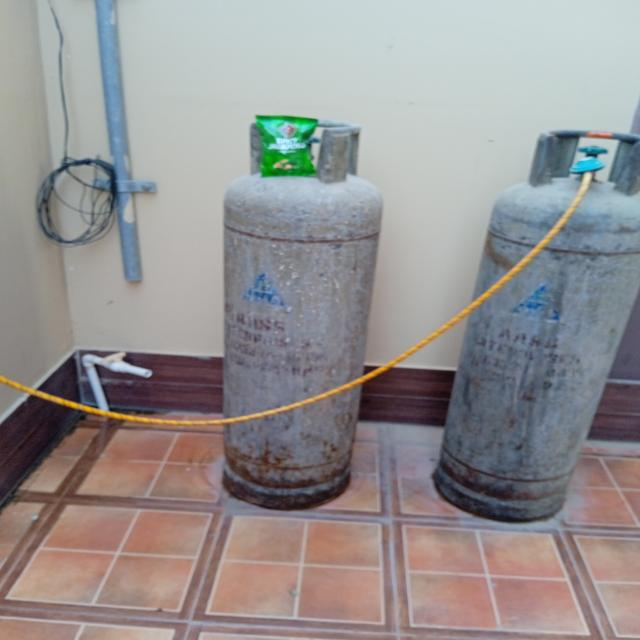Plastic: (250, 109, 326, 177)
